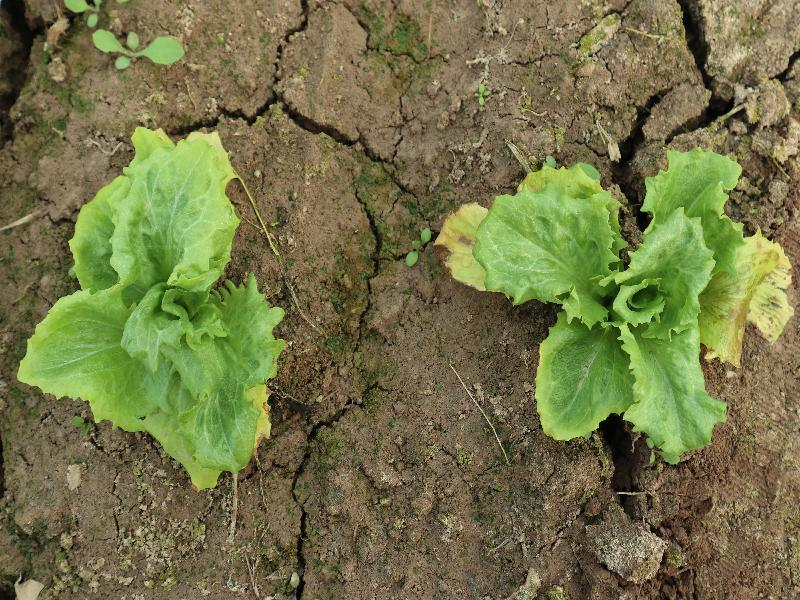lettuce: (433, 149, 793, 463), (15, 128, 284, 491)
